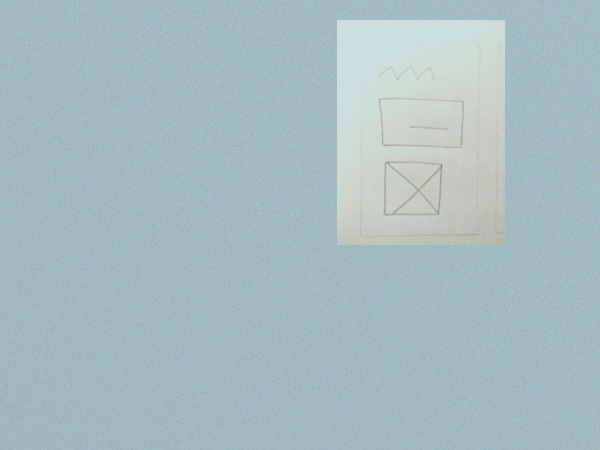button: (375, 94, 468, 152)
image: (378, 158, 448, 222)
text: (374, 60, 439, 86)
